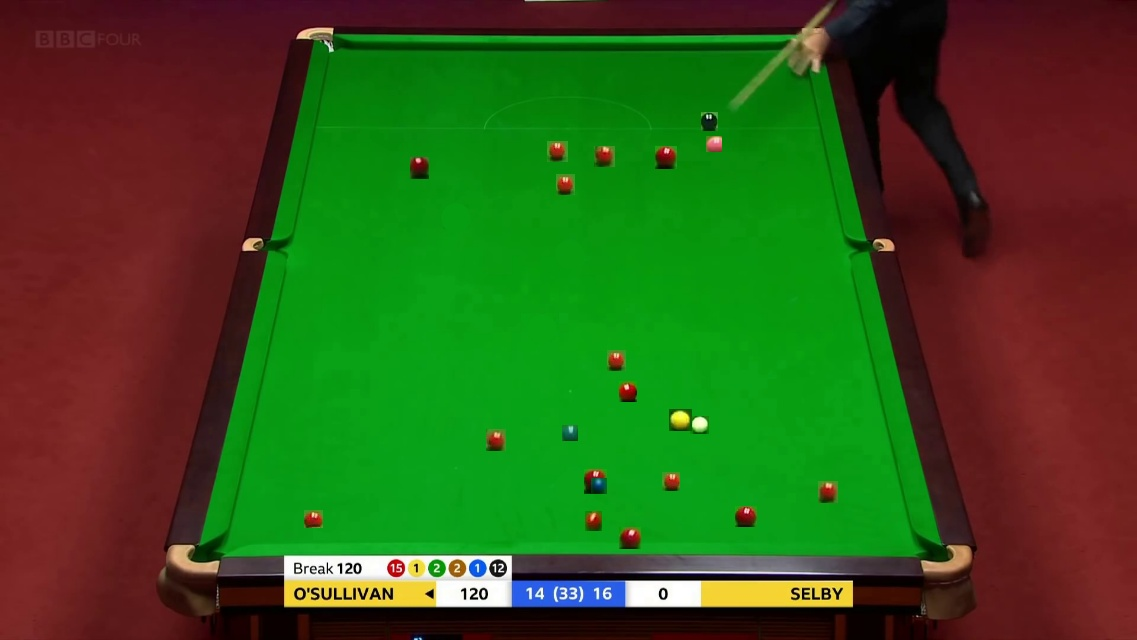black: (701, 112, 720, 129)
blue: (591, 478, 607, 494)
brown: (410, 157, 432, 176)
green: (562, 425, 578, 441)
pink: (706, 136, 722, 152)
red: (584, 469, 609, 492), (655, 146, 678, 168), (619, 527, 641, 549), (735, 506, 756, 528), (547, 141, 568, 162), (594, 146, 615, 167), (818, 481, 840, 501), (486, 429, 508, 449), (607, 350, 628, 369), (556, 174, 577, 193), (619, 381, 640, 399), (662, 472, 681, 490), (304, 510, 322, 529), (585, 511, 605, 528)
white: (690, 416, 708, 435)
yellow: (669, 409, 691, 432)
